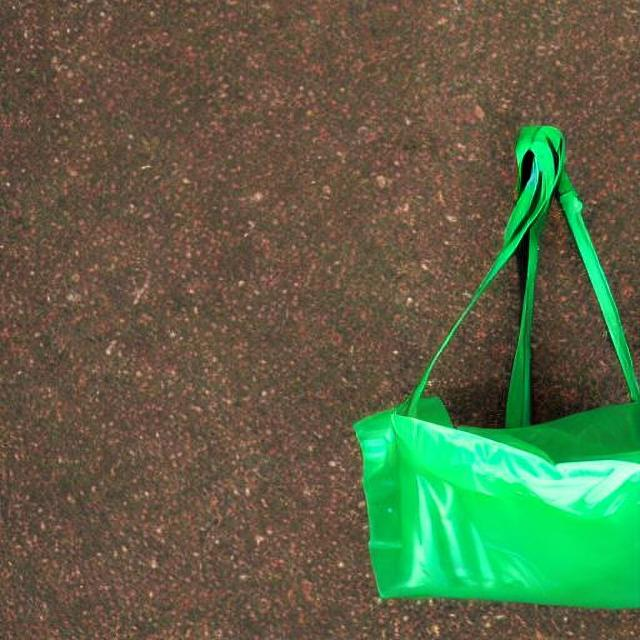plastic bag: (371, 121, 632, 599)
